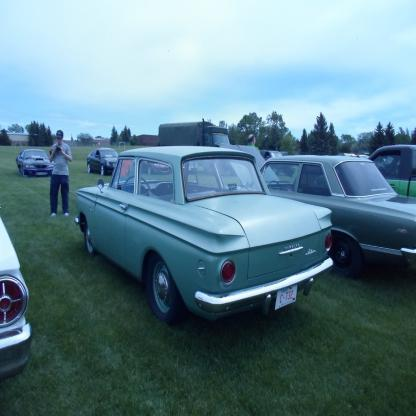car: (74, 147, 333, 327), (240, 155, 416, 272), (0, 213, 33, 382), (368, 145, 415, 196), (14, 148, 54, 178), (89, 140, 118, 178), (138, 158, 172, 176)
person: (49, 129, 72, 217)
